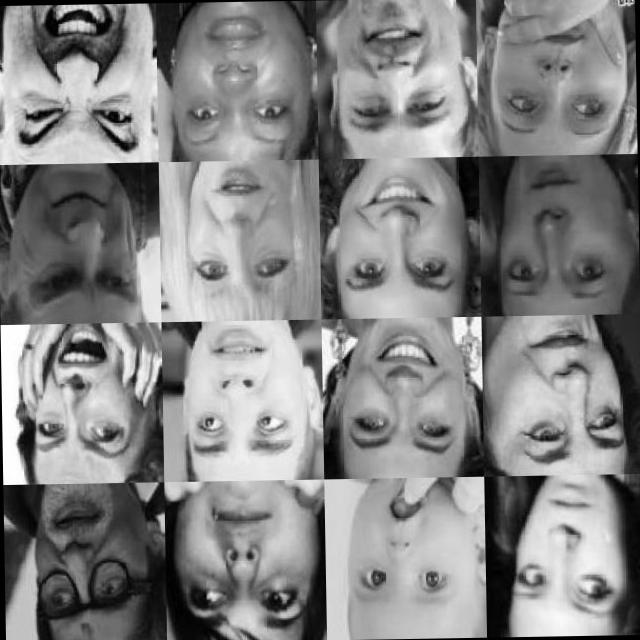angry: (7, 3, 144, 161), (20, 170, 143, 321)
fear: (175, 322, 302, 472), (501, 483, 631, 628), (18, 325, 145, 470)
happy: (334, 164, 462, 311), (336, 0, 459, 150), (339, 326, 466, 466), (180, 165, 296, 318)
neutral: (489, 160, 628, 311), (171, 491, 309, 640), (170, 8, 304, 158), (490, 6, 623, 151), (506, 321, 628, 472), (342, 482, 468, 624), (30, 489, 146, 640)
